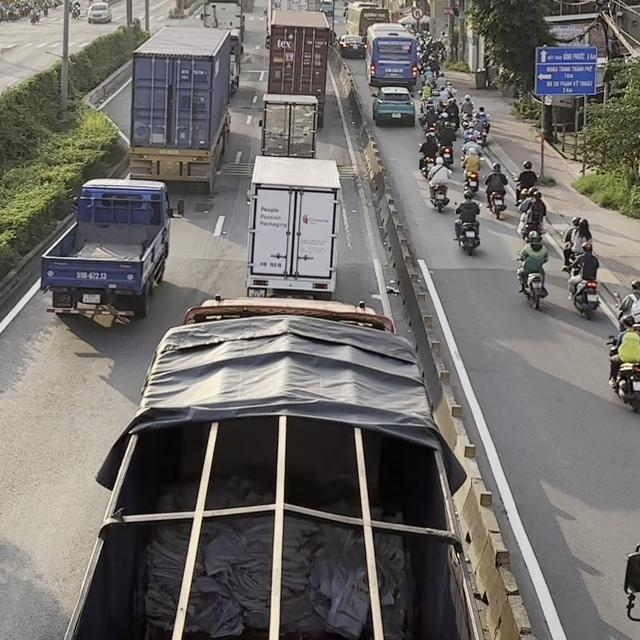bus: (364, 22, 419, 88)
car: (370, 86, 415, 126), (338, 34, 367, 58)
motorcycle: (605, 335, 639, 414), (563, 263, 600, 320), (515, 250, 548, 310), (452, 202, 482, 254), (482, 174, 510, 220), (460, 154, 484, 193), (427, 181, 451, 213), (418, 142, 436, 178), (438, 144, 454, 166)
truck: (64, 294, 478, 640), (39, 177, 172, 327), (126, 25, 241, 194), (244, 155, 343, 299), (266, 8, 331, 129), (259, 93, 318, 158)
